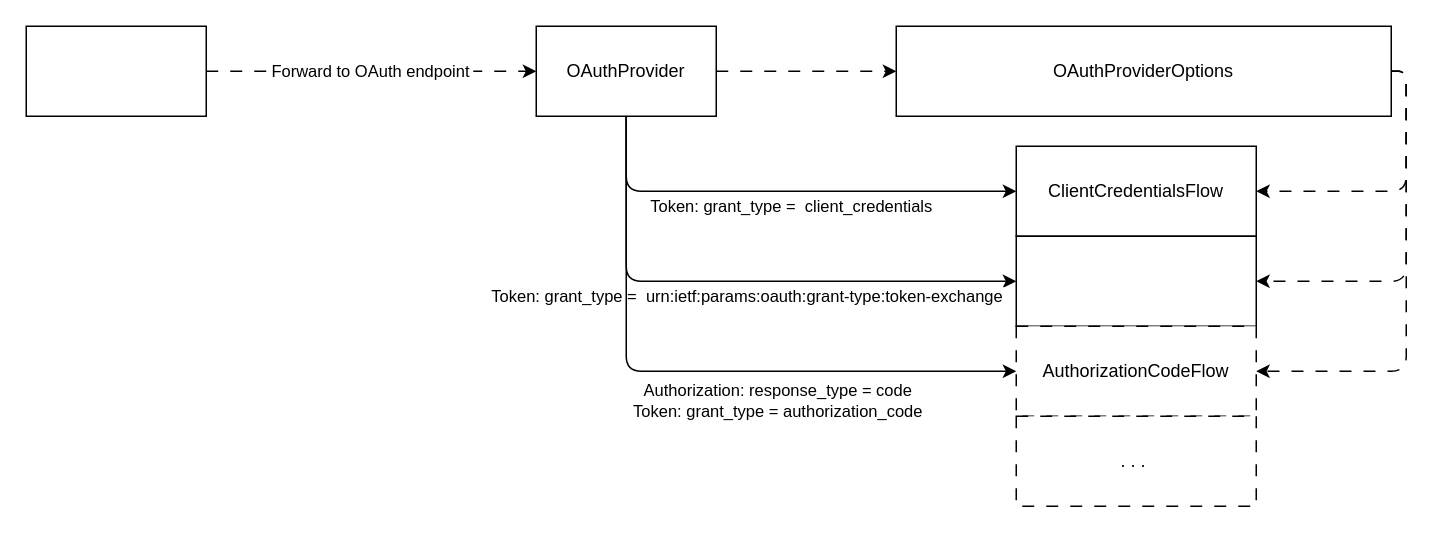
Image size: 1445x533. Some labels were removed from this diagram. The centre of each missing label's shape, as x and y in pixels:
"Request" belongs at point (115, 70).
"TokenExchangeFlow" belongs at point (1135, 280).
